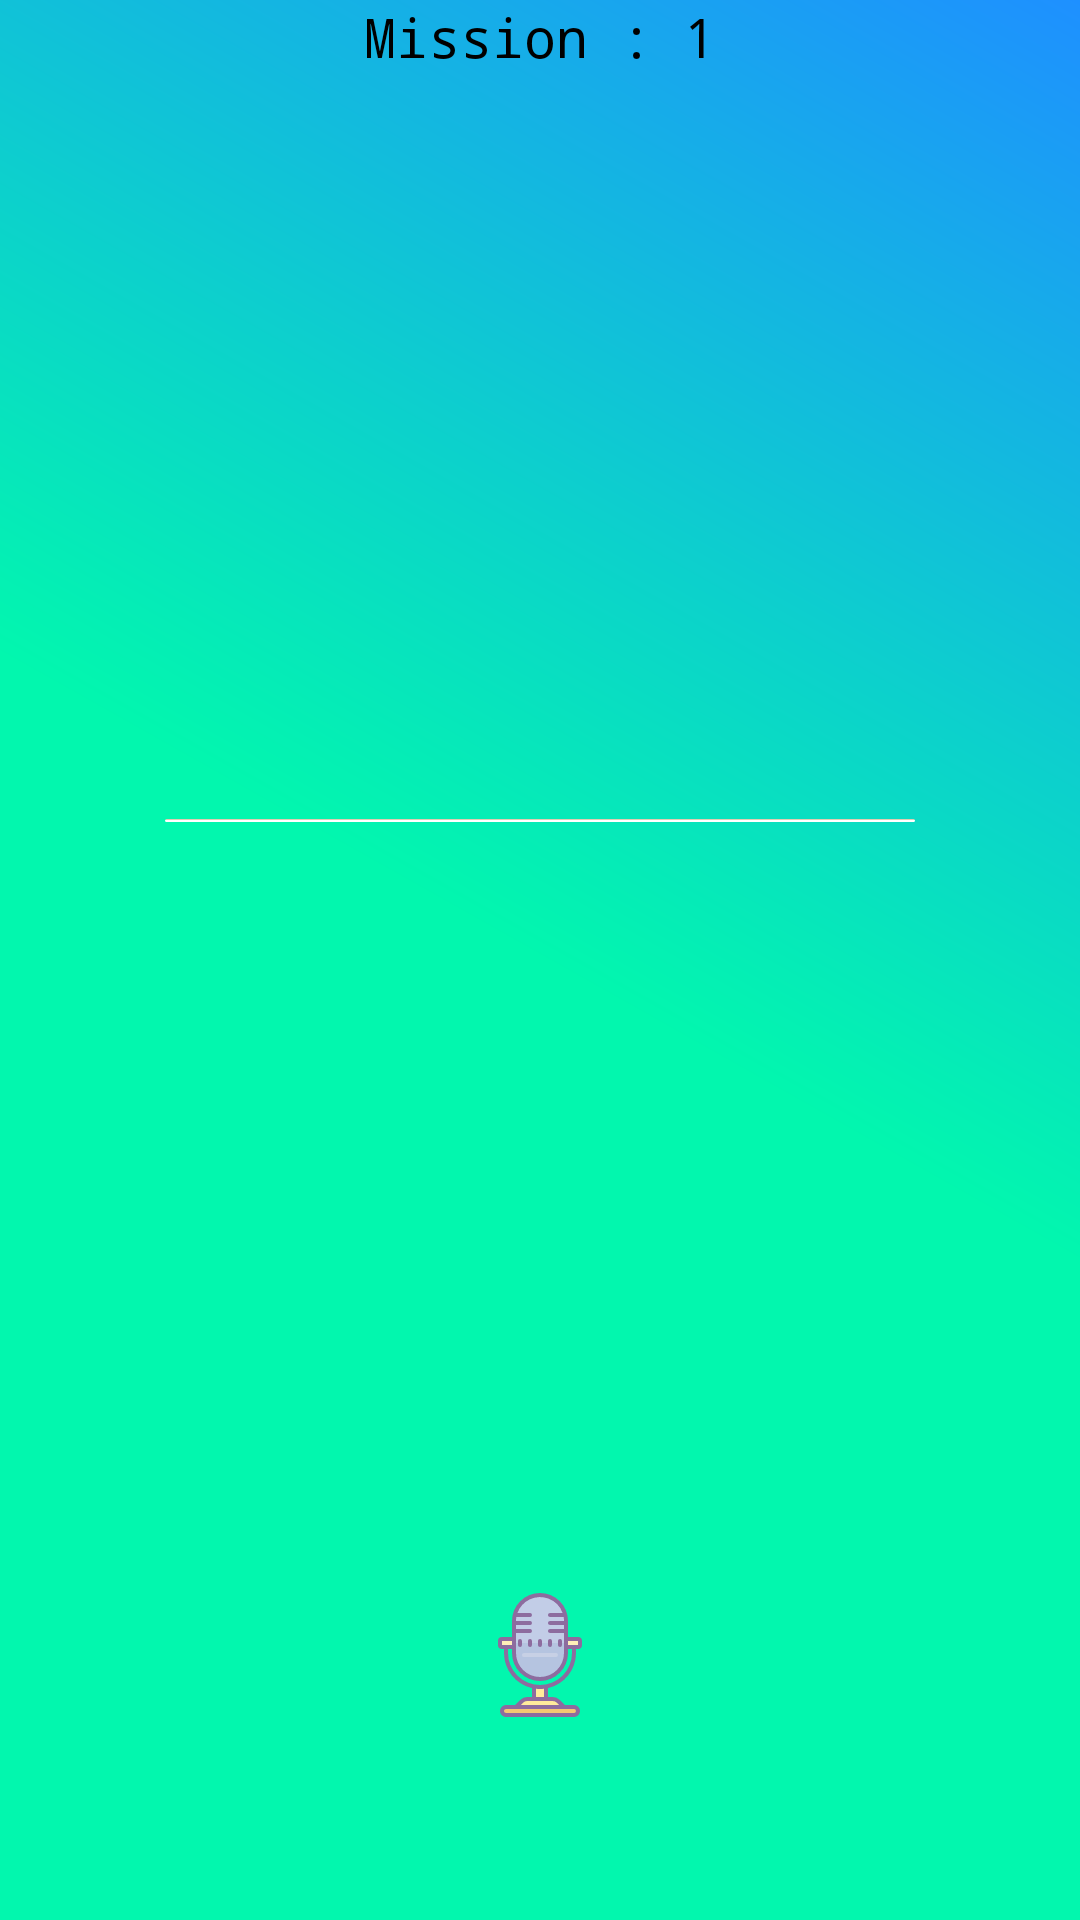

Where to tap for icons on this 1080px x 1920px app screen, as (x=x, y=y):
mic: (x=540, y=1655)
